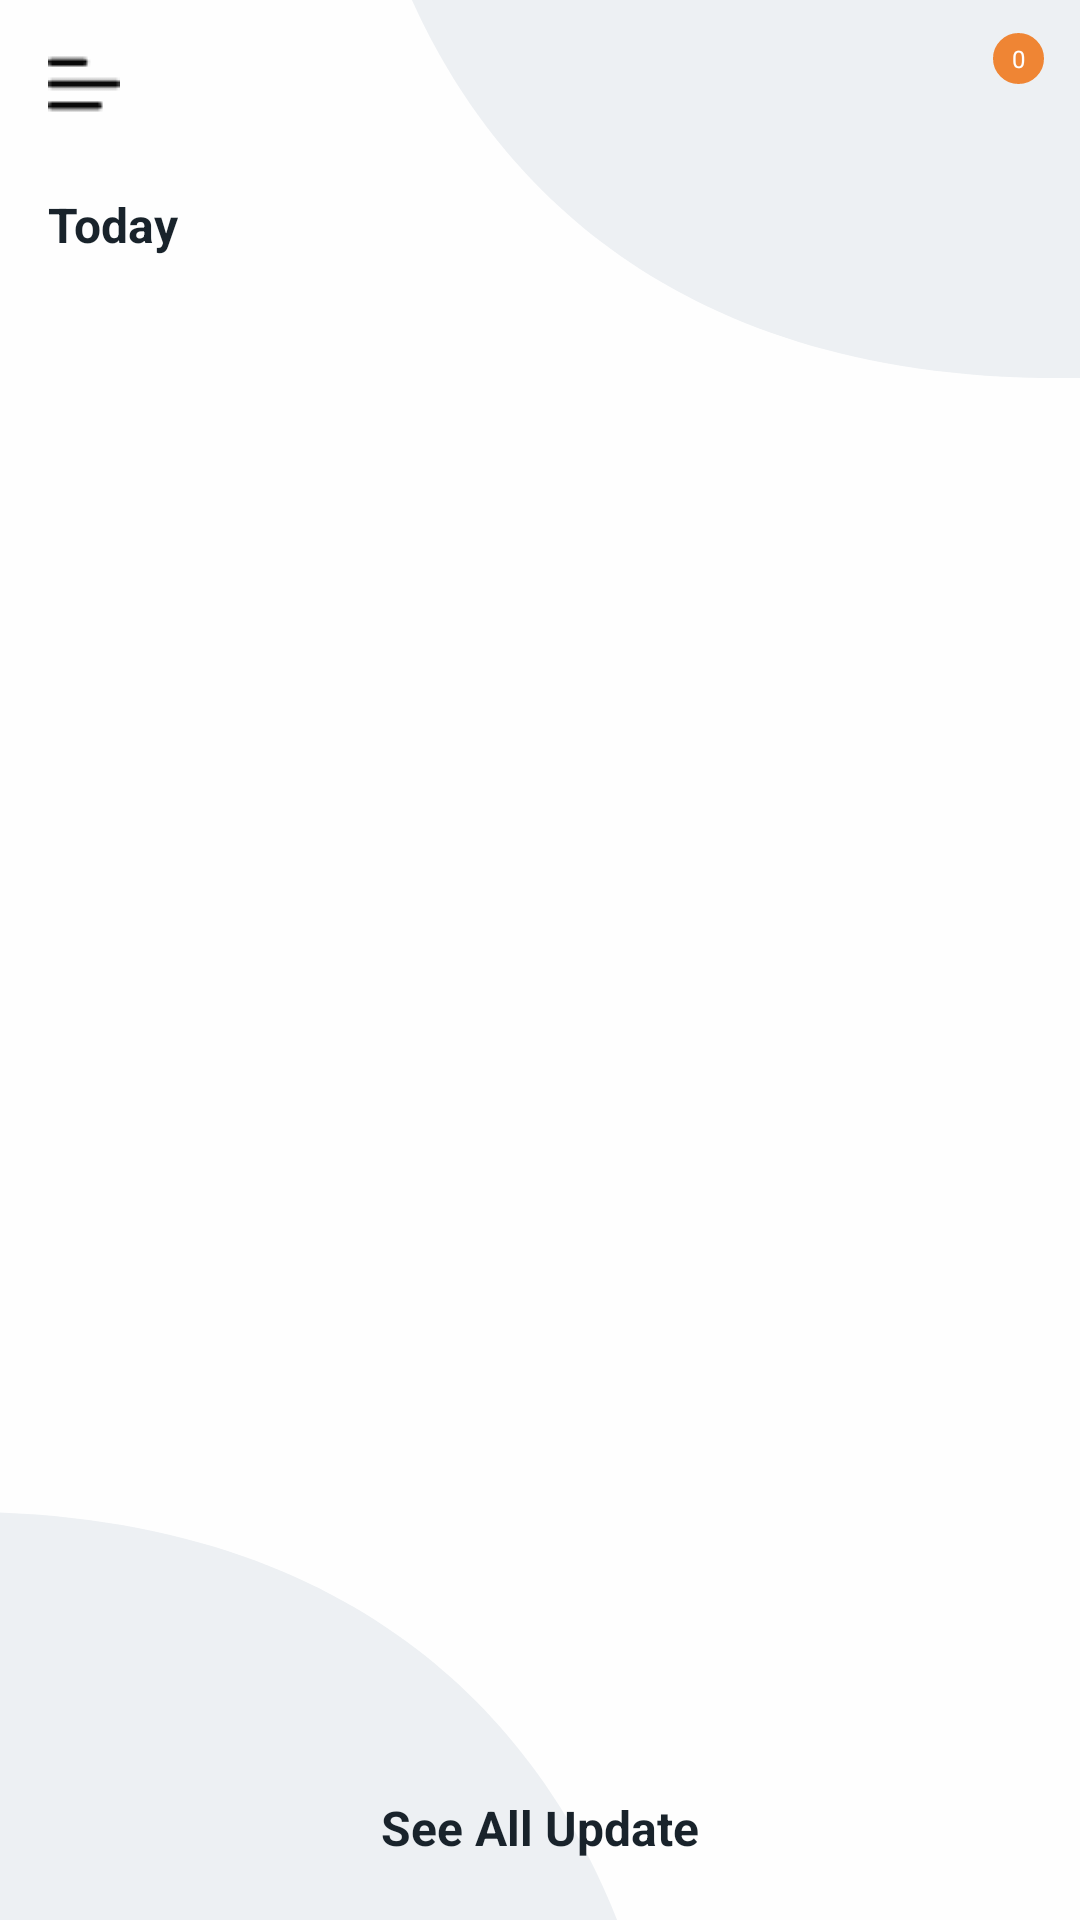

Icon bounding boxes for this 1080w x 1920h phone screenshot, format (x1, y1, x2, y2):
menu: (48, 56, 120, 112)
